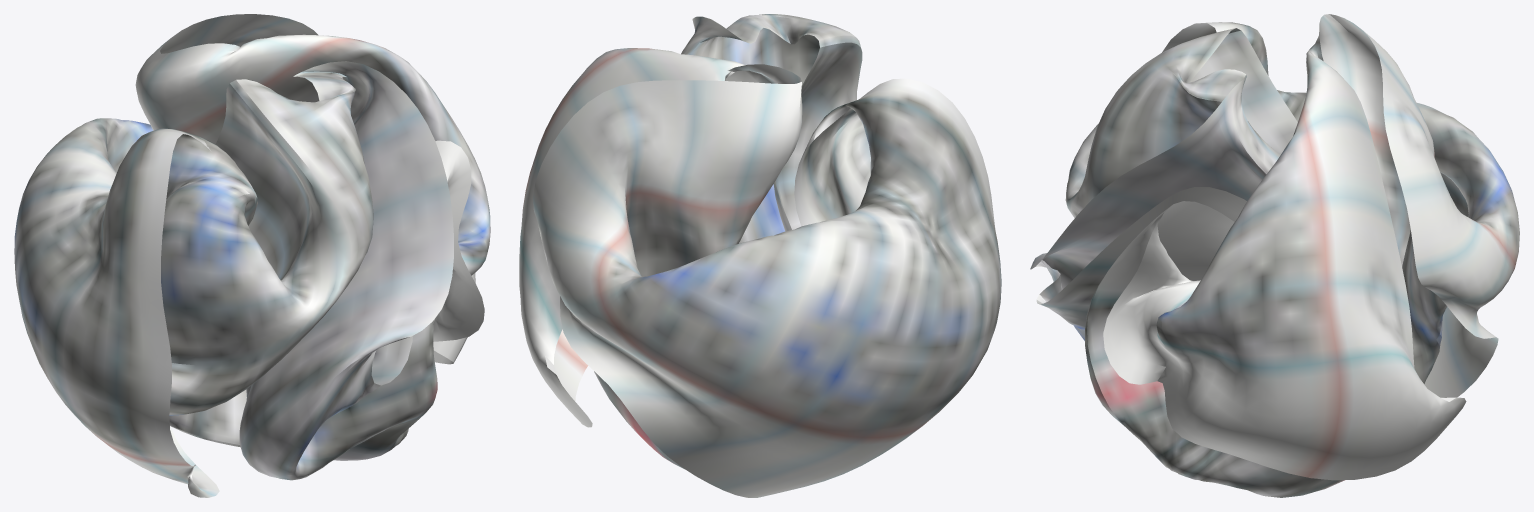
Rendered from paper-white-ball.glb.
The picture shows the model from 3 angles, left to right: view 1: azimuth 30°, elevation 25°; view 2: azimuth 150°, elevation 25°; view 3: azimuth 270°, elevation 25°; orthographic projection.
Visible parts, largest first — view 1: PaperWhiteBall; view 2: PaperWhiteBall; view 3: PaperWhiteBall.
Boxes of the visible parts, left/top/right/bottom form: PaperWhiteBall: left=14, top=14, right=490, bottom=497; PaperWhiteBall: left=519, top=14, right=1001, bottom=497; PaperWhiteBall: left=1030, top=14, right=1519, bottom=497.
Size of the model in its own units: 0.0527 by 0.0507 by 0.0516.
1 material, 1 textured.
